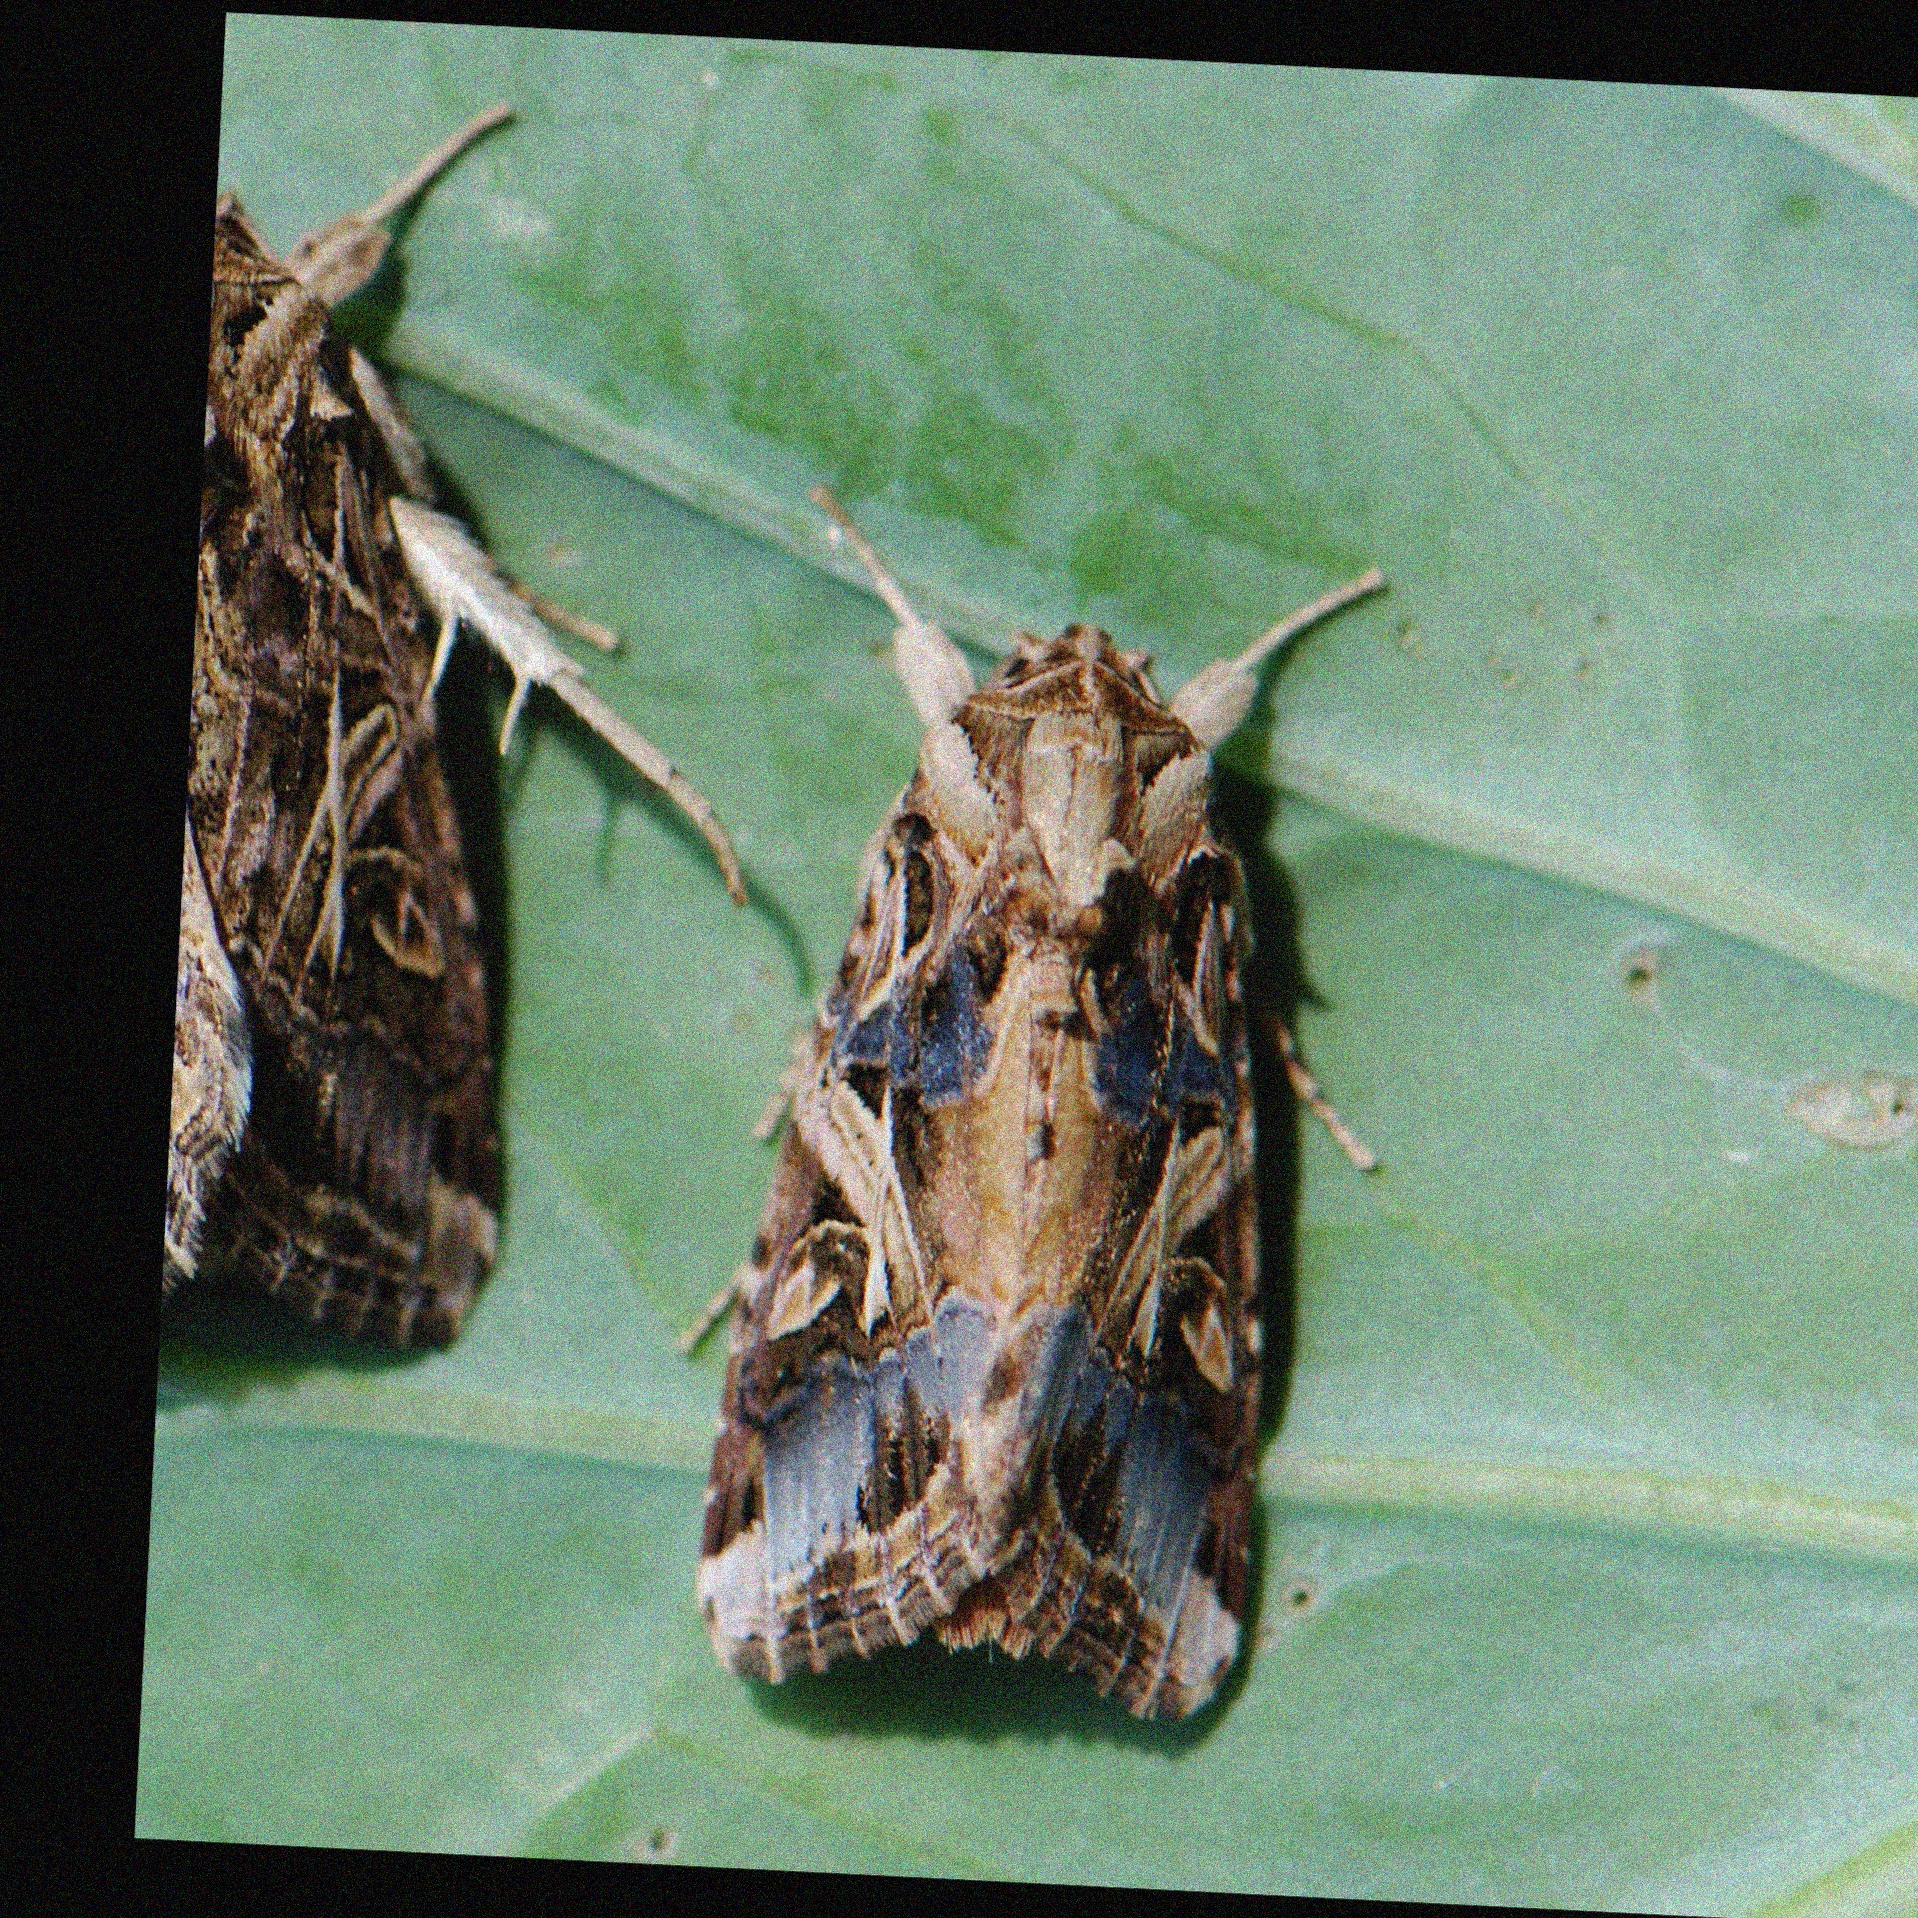Spodoptera litura: (689, 495, 1381, 1718), (191, 100, 755, 1358)
